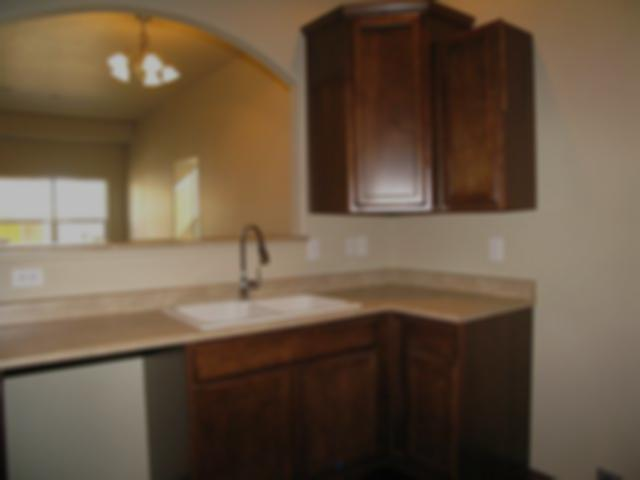Lavaplatos: (166, 218, 357, 336)
